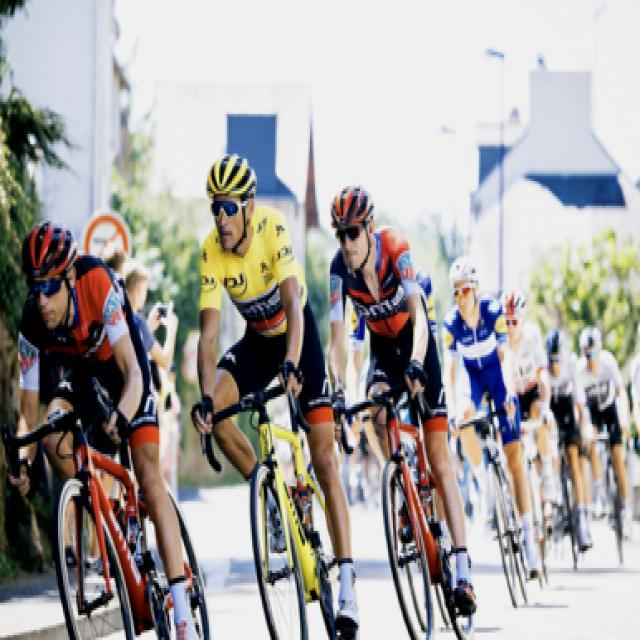Helmet: (198, 139, 266, 253), (17, 213, 82, 330), (328, 176, 378, 285), (446, 250, 484, 320), (537, 320, 574, 382)
